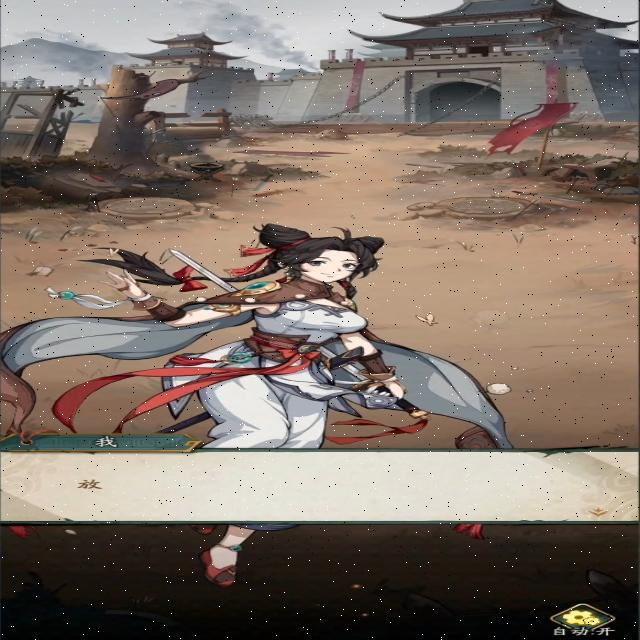system-auto: (550, 603, 620, 637)
